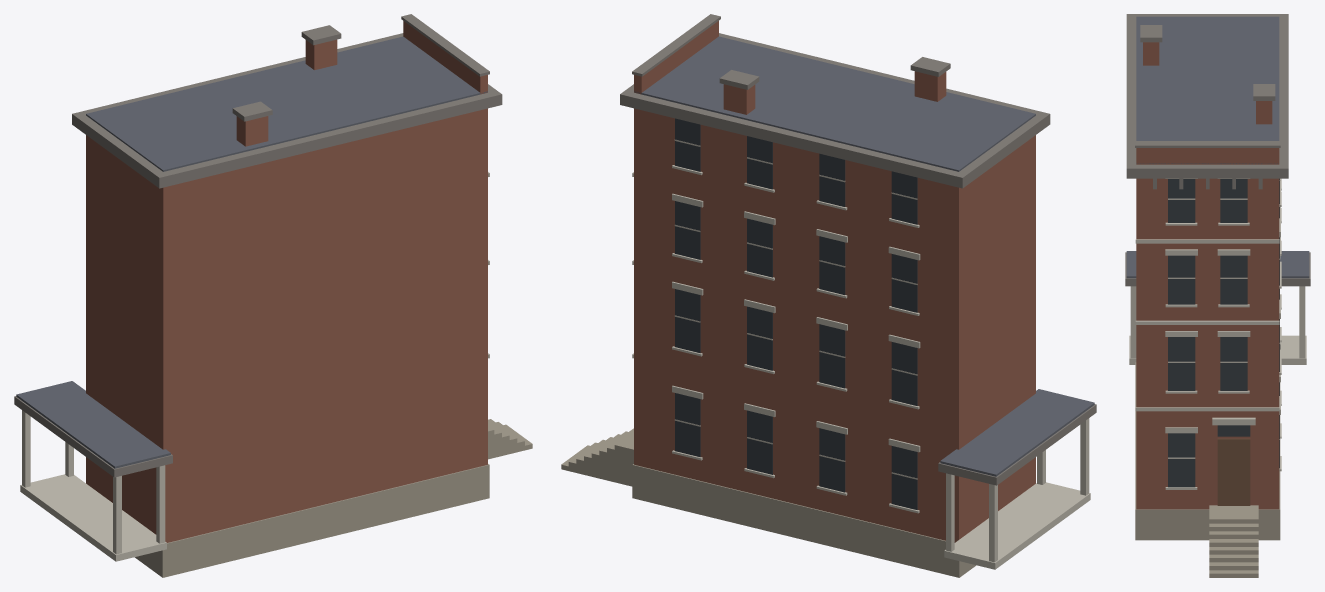
Rendered from house_1615_prairie__draft_1904.glb.
3 views of the same model, side by side, from view 1: azimuth 30°, elevation 25°; view 2: azimuth 150°, elevation 25°; view 3: azimuth 270°, elevation 25° (orthographic). The views are drawn at different scales.
Visible parts, largest first — view 1: house_1615_prairie__draft_1904; view 2: house_1615_prairie__draft_1904; view 3: house_1615_prairie__draft_1904.
Part boxes in pixels (bbox=[...]): house_1615_prairie__draft_1904: bbox=[14, 14, 532, 577]; house_1615_prairie__draft_1904: bbox=[561, 14, 1096, 577]; house_1615_prairie__draft_1904: bbox=[1125, 14, 1310, 577].
Size of the model in its own units: 18.2 by 16.44 by 6.8.
